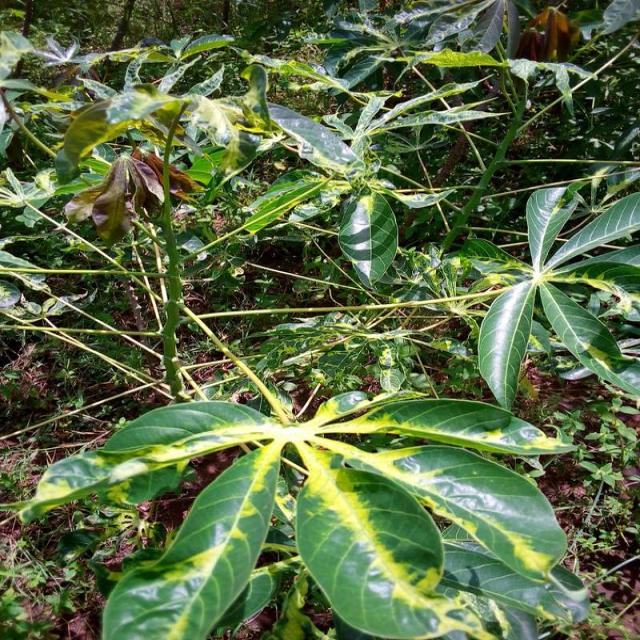cassava leaf: (102, 437, 284, 638), (295, 448, 487, 638), (338, 190, 399, 289)
